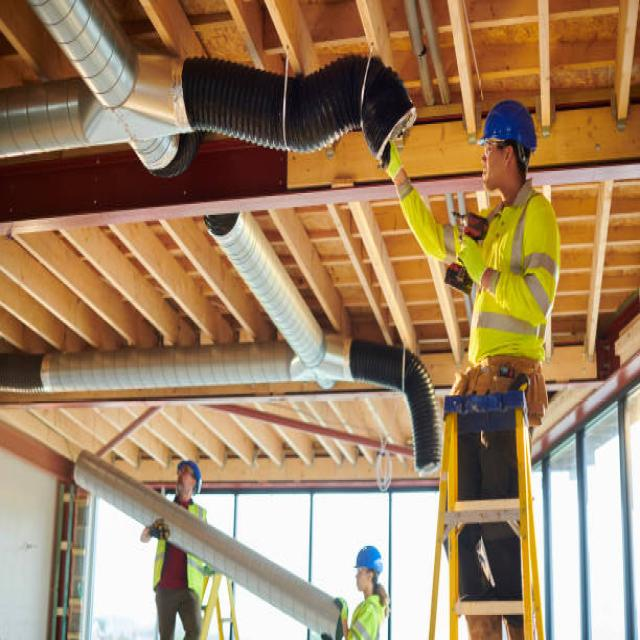gloves: (460, 237, 492, 282), (386, 140, 406, 185), (146, 515, 172, 538)
